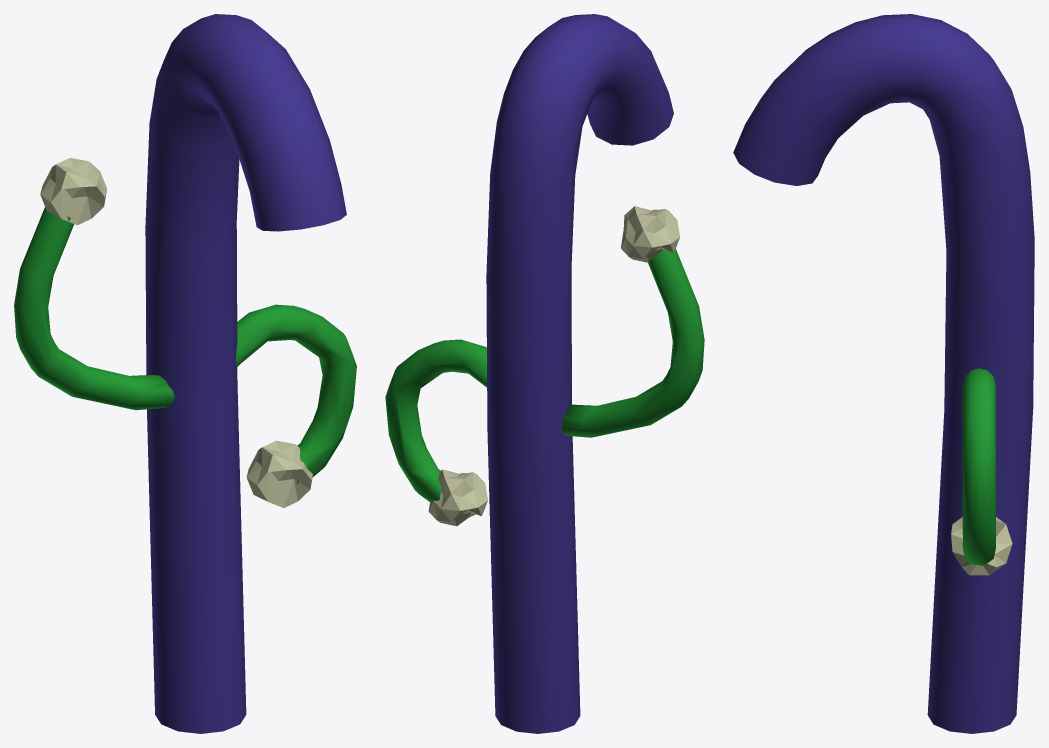
Rendered from RangedEnemyModel.fbx.
The picture shows the model from 3 angles, left to right: view 1: azimuth 30°, elevation 25°; view 2: azimuth 150°, elevation 25°; view 3: azimuth 270°, elevation 25°; orthographic projection. The views are drawn at different scales.
Visible parts, largest first — view 1: Straw, Hands, Paper; view 2: Straw, Hands, Paper; view 3: Straw, Hands, Paper.
Boxes of the visible parts, left/top/right/bottom form: Straw: left=145, top=14, right=346, bottom=733; Hands: left=14, top=207, right=356, bottom=484; Paper: left=40, top=158, right=312, bottom=507; Straw: left=486, top=14, right=673, bottom=733; Hands: left=385, top=249, right=704, bottom=502; Paper: left=428, top=206, right=679, bottom=526; Straw: left=733, top=14, right=1034, bottom=733; Hands: left=962, top=368, right=995, bottom=565; Paper: left=951, top=517, right=1012, bottom=575.
Size of the model in its own units: 341 by 695 by 272.
